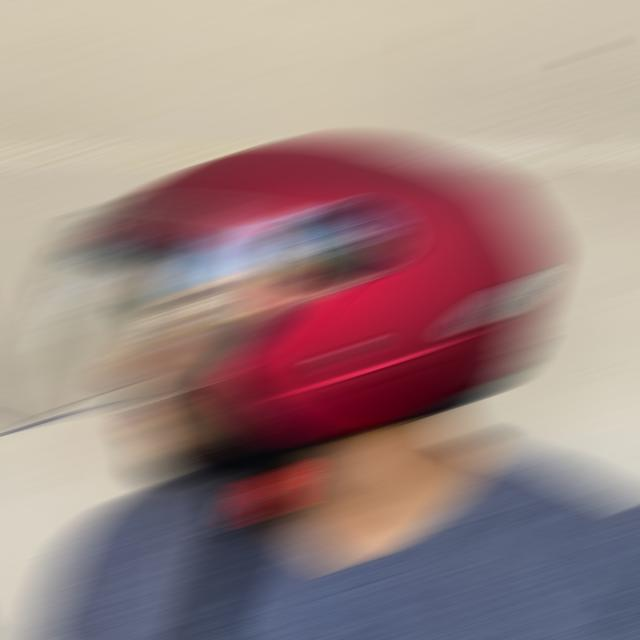With Helmet: (0, 141, 551, 436)
